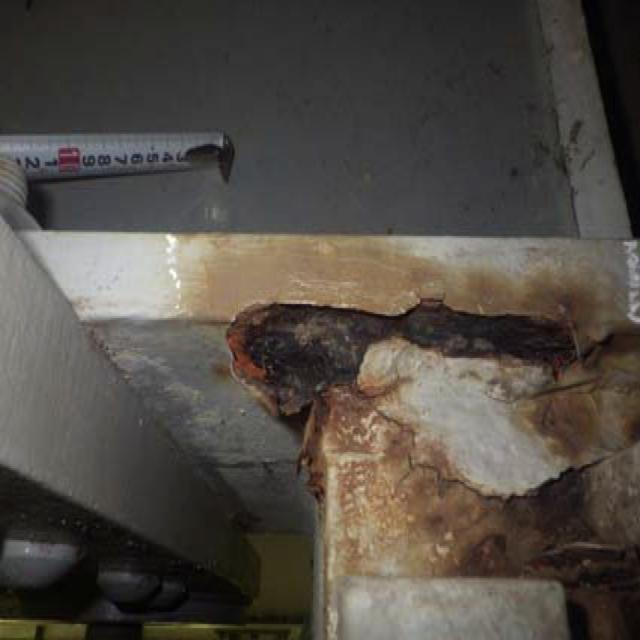corrosion: (240, 268, 623, 573)
